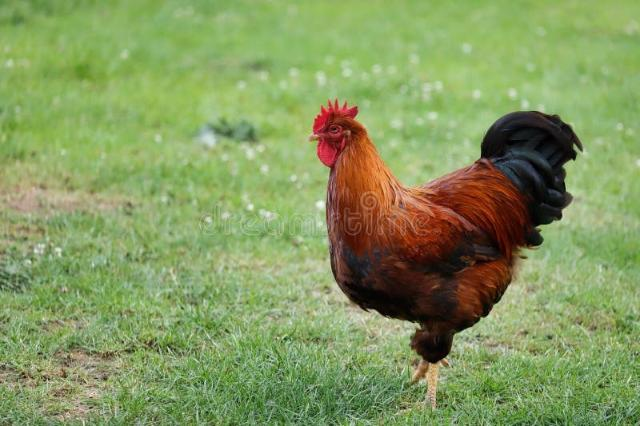Chicken: (308, 101, 583, 404)
